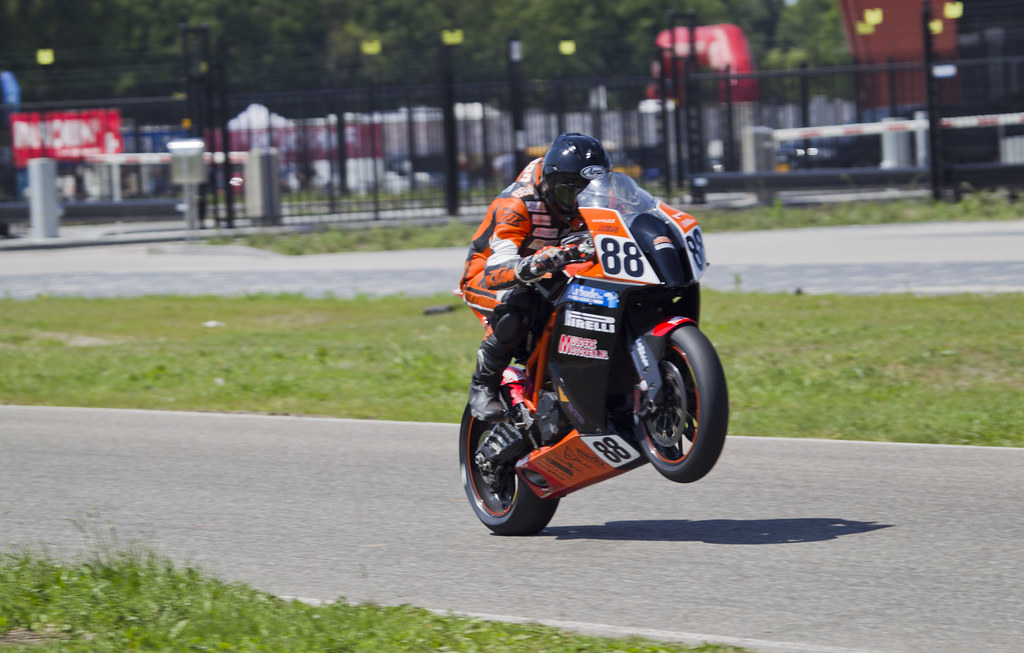helmet: (540, 126, 622, 224)
